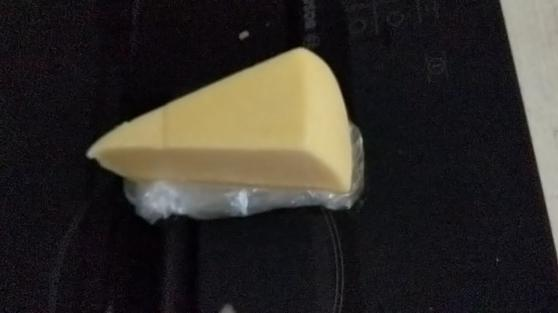cheese: (83, 43, 357, 198)
